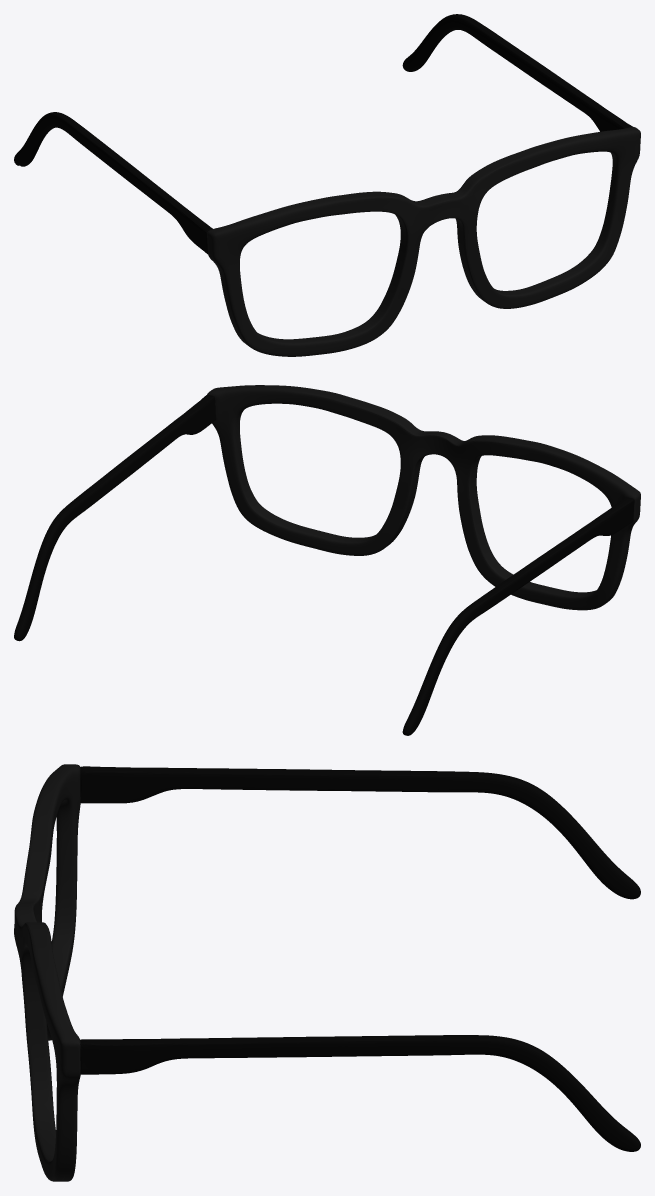
Rendered from black_glasses.glb.
3 views of the same model, one above another, from view 1: azimuth 30°, elevation 25°; view 2: azimuth 150°, elevation 25°; view 3: azimuth 270°, elevation 25° (orthographic). The views are drawn at different scales.
Parts seen in each view (by area): view 1: Frame_1_5, Handles_2_7; view 2: Frame_1_5, Handles_2_7; view 3: Handles_2_7, Frame_1_5.
Boxes of the visible parts, left/top/right/bottom form: Frame_1_5: left=207, top=127, right=640, bottom=356; Handles_2_7: left=14, top=14, right=632, bottom=254; Frame_1_5: left=207, top=385, right=640, bottom=610; Handles_2_7: left=14, top=394, right=634, bottom=735; Handles_2_7: left=80, top=766, right=640, bottom=1151; Frame_1_5: left=14, top=764, right=80, bottom=1181.
Size of the model in its own units: 3.56 by 1.22 by 3.37.
Materials: 3 (1 with a texture image).
